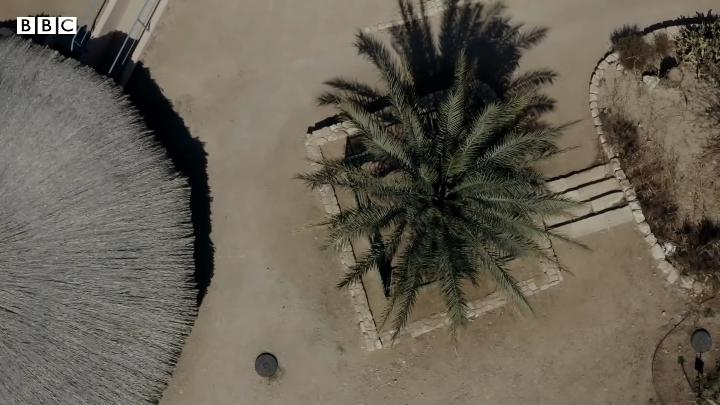Date-Palm-Crown: (375, 105, 499, 263)
